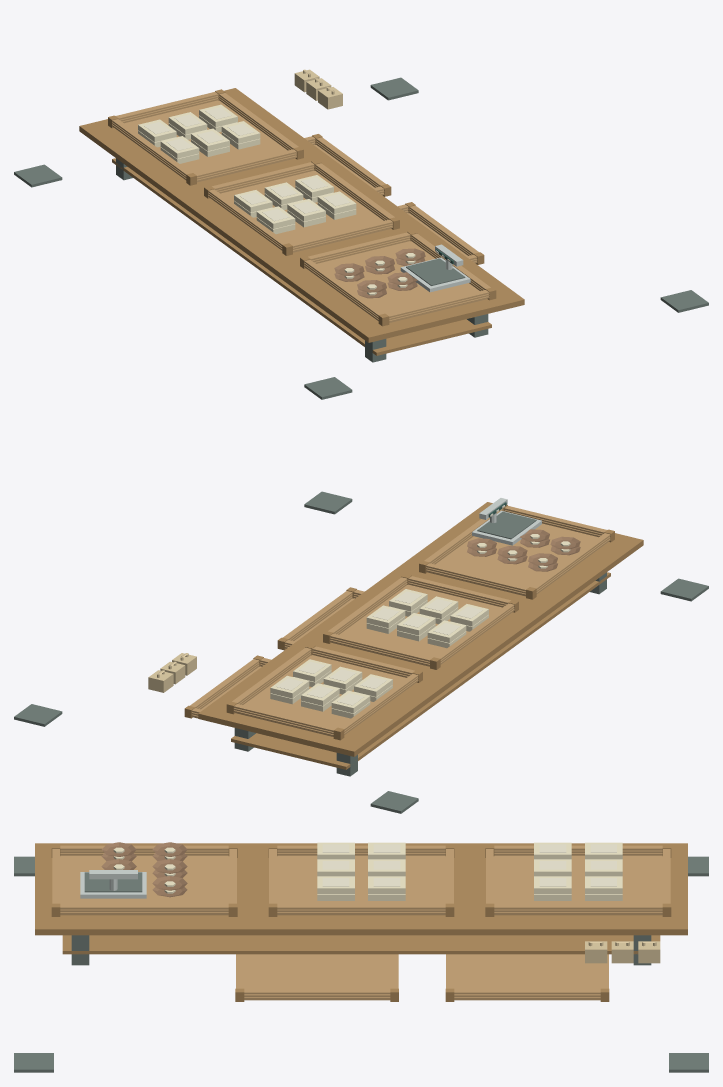
The model's file is market-tofu-ground.glb.
The picture shows the model from 3 angles, top to bottom: view 1: azimuth 30°, elevation 25°; view 2: azimuth 150°, elevation 25°; view 3: azimuth 270°, elevation 25°; orthographic projection. The views are drawn at different scales.
Visible parts, largest first — view 1: tofu market stall; view 2: tofu market stall; view 3: tofu market stall.
Part boxes in pixels (x1,y1,x2,y2): tofu market stall: [14, 69, 708, 399]; tofu market stall: [14, 491, 708, 813]; tofu market stall: [14, 842, 708, 1072].
Size of the model in its own units: 2.28 by 0.4237 by 3.14.
